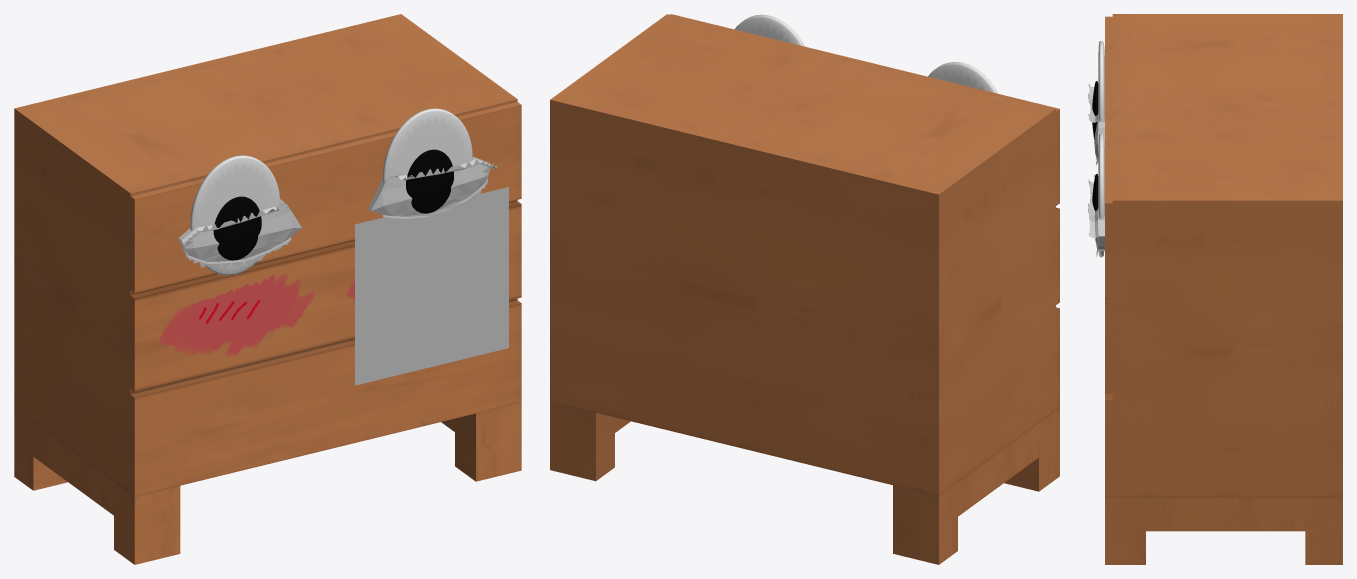
The model's file is the stand w blush.dae.
3 renders of one model, left to right at view 1: azimuth 30°, elevation 25°; view 2: azimuth 150°, elevation 25°; view 3: azimuth 270°, elevation 25°, orthographic.
Visible parts, largest first — view 1: Cube.001, Plane.001, eyes2, eyes1, Plane; view 2: Cube.001, eyes2; view 3: Cube.001, eyes2, eyes1.
Boxes of the visible parts, bbox=[...] form: Cube.001: bbox=[14, 14, 521, 564]; Plane.001: bbox=[355, 187, 508, 385]; eyes2: bbox=[190, 108, 472, 275]; eyes1: bbox=[178, 157, 497, 268]; Plane: bbox=[179, 274, 295, 354]; Cube.001: bbox=[550, 14, 1059, 564]; eyes2: bbox=[734, 14, 997, 93]; Cube.001: bbox=[1105, 14, 1342, 564]; eyes2: bbox=[1092, 41, 1104, 257]; eyes1: bbox=[1088, 83, 1104, 256].
Size of the model in its own units: 2.72 by 1.57 by 2.59.
